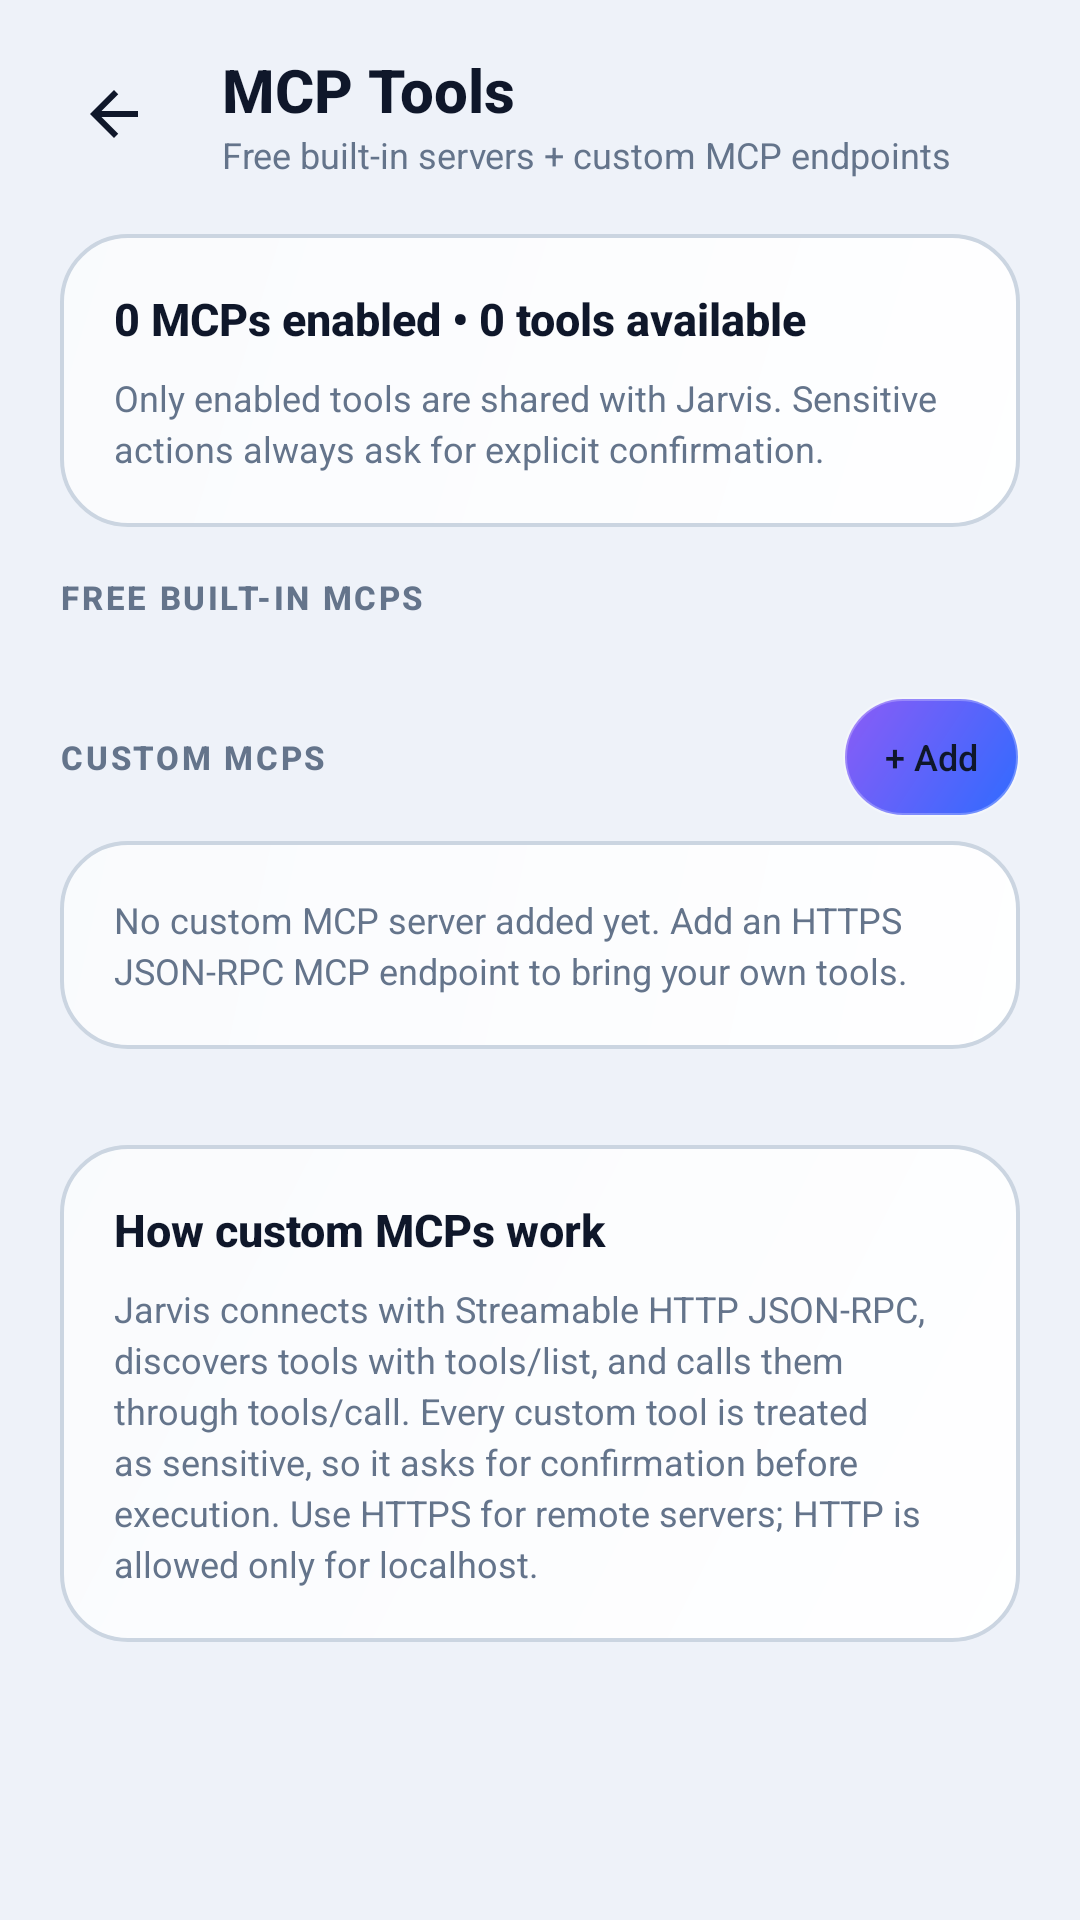

Where to tap for icons on this 1080w x 1920h app screen, as (x,y):
Back: (114,114)
